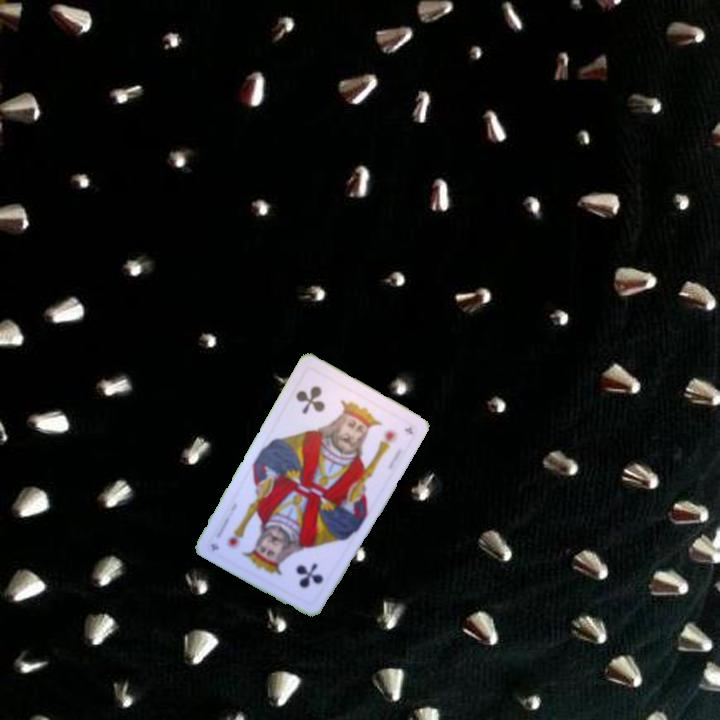c_k.png: (258, 527, 343, 609), (280, 364, 365, 445)
